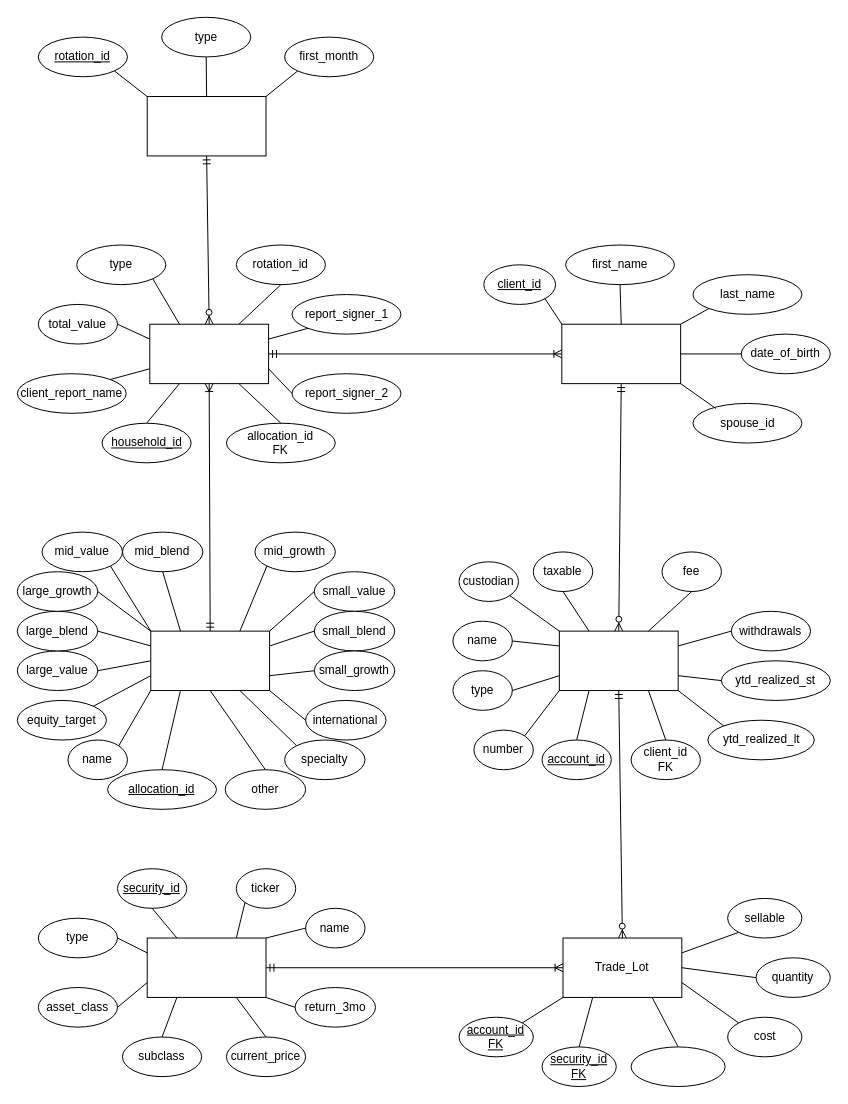
The diagram is 848 pixels wide and 1104 high, and some of its shapes have lost their labels. The shapes that lost their labels are listed below. From the top down, each one's box as (x1, y1, x2, y2) in pixels, then its label:
(146, 96, 266, 156): Rotation
(149, 323, 269, 384): Household
(561, 323, 681, 384): Client
(150, 630, 270, 691): Allocation
(558, 630, 678, 691): Account
(146, 937, 266, 997): Security
(630, 1046, 725, 1087): date_acquired
